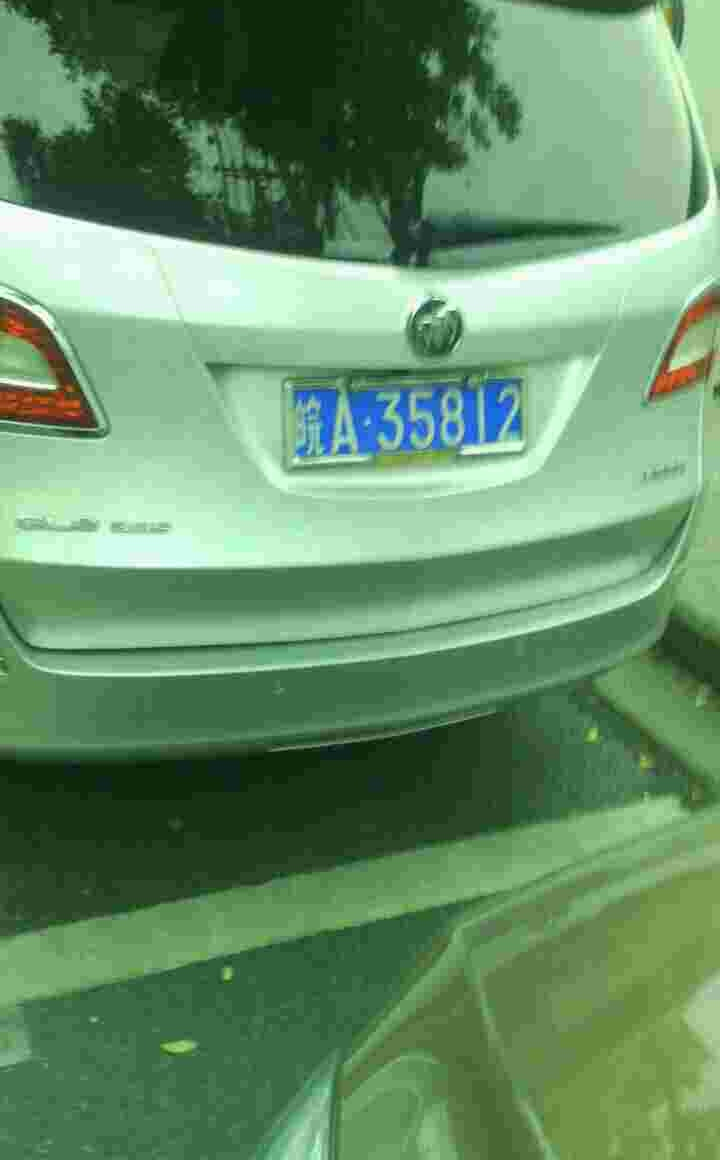license_plate: (301, 376, 538, 451)
